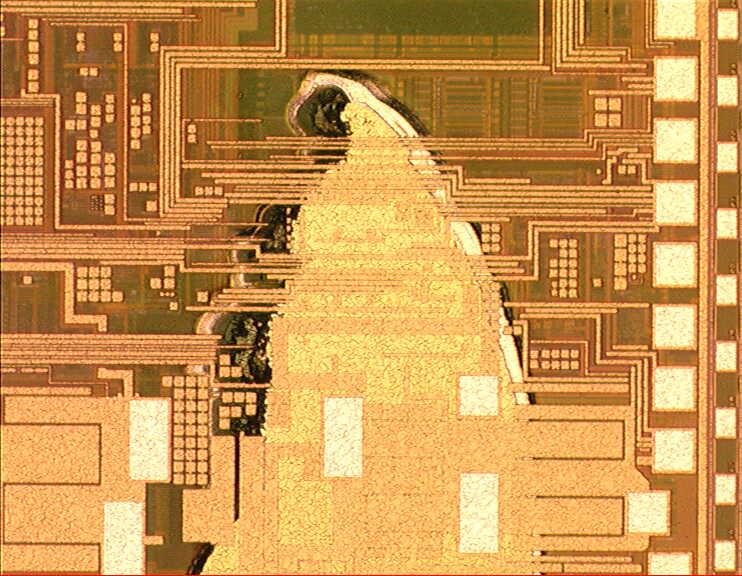BLOCK ETCH: (175, 58, 559, 576)
